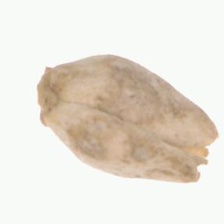L1: (169, 129, 221, 183), (35, 65, 58, 128)
L2: (37, 54, 220, 185)
